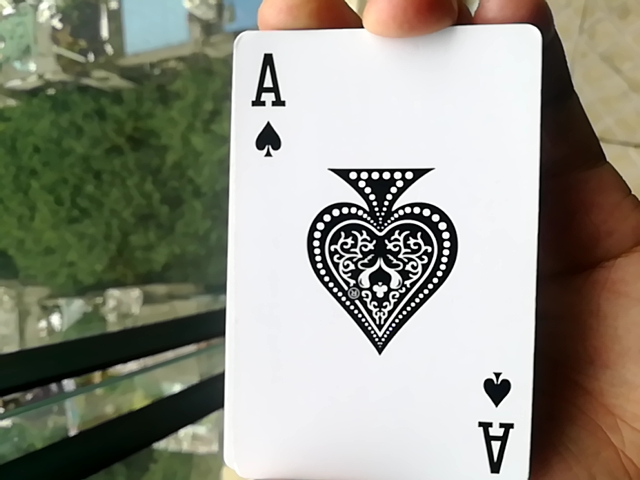ht a: (212, 43, 553, 480)
